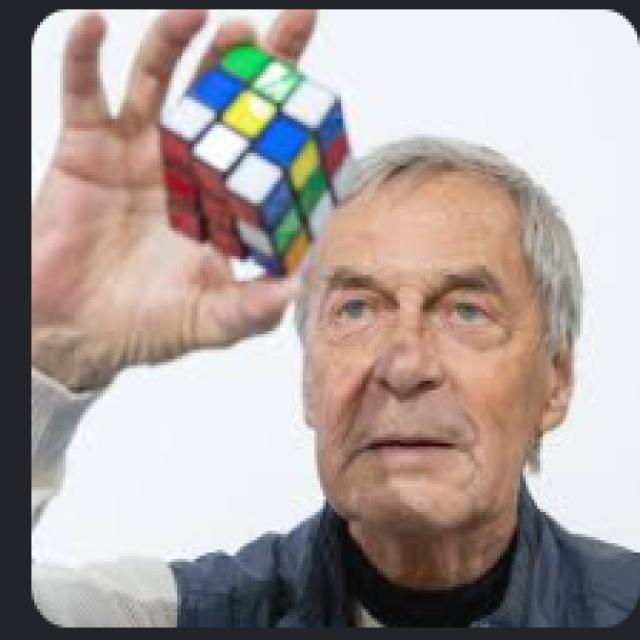Cubo-No-resuelto: (160, 44, 349, 275)
